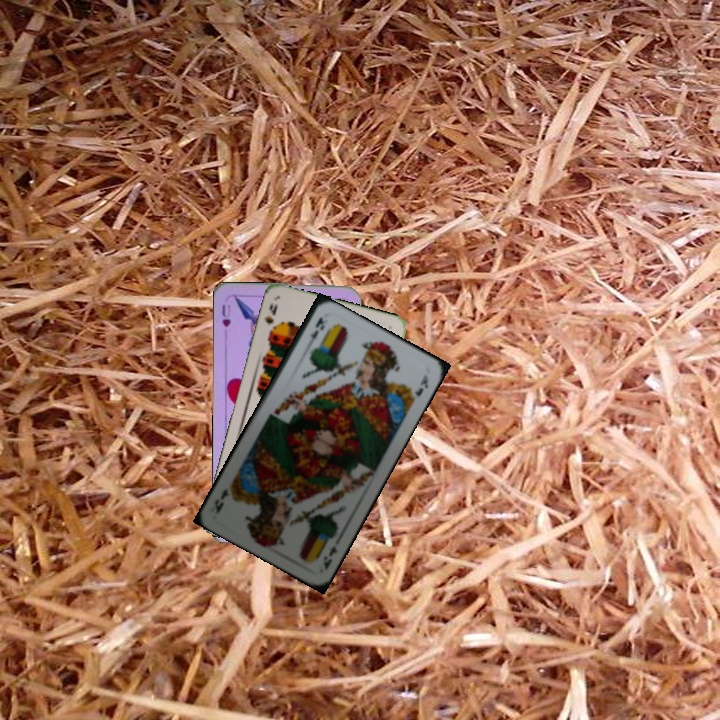EK: (303, 312, 330, 351), (319, 541, 340, 572)
HU: (218, 300, 233, 329)
S9: (260, 299, 280, 338)
